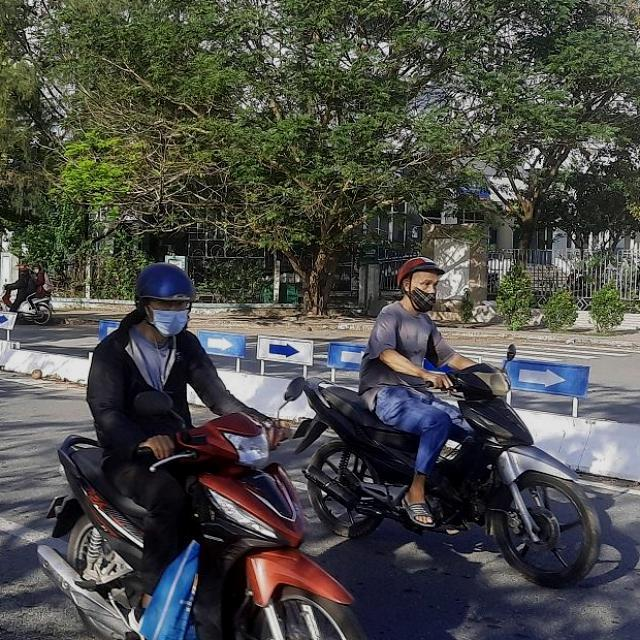Helmet: (130, 264, 198, 337), (396, 258, 446, 310)
